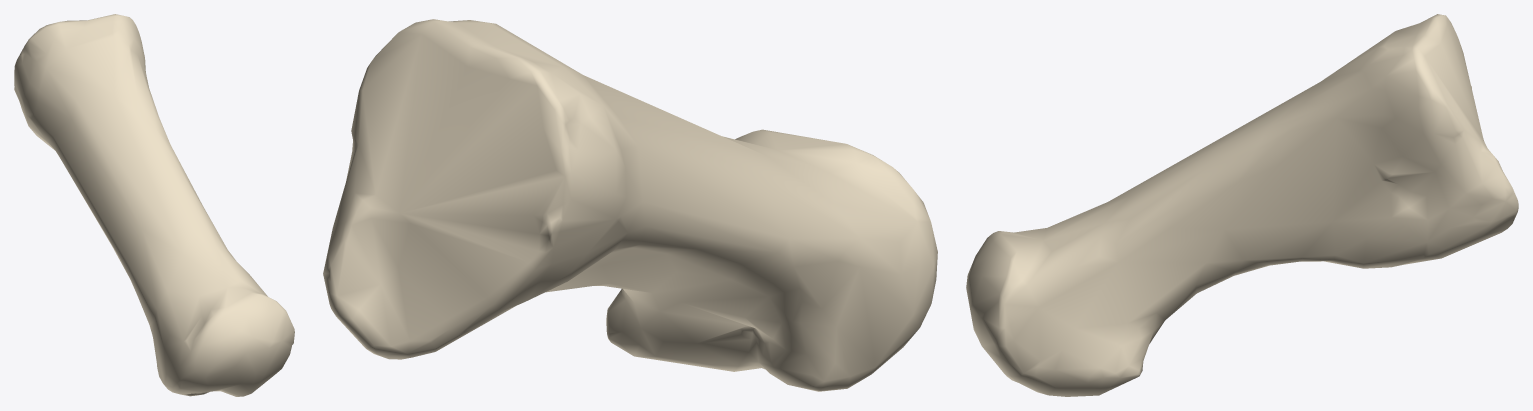
File: first-metatarsal-bone-l.glb
The picture shows the model from 3 angles, left to right: view 1: azimuth 30°, elevation 25°; view 2: azimuth 150°, elevation 25°; view 3: azimuth 270°, elevation 25°; orthographic projection. The views are drawn at different scales.
Parts seen in each view (by area): view 1: First metatarsal bone.l; view 2: First metatarsal bone.l; view 3: First metatarsal bone.l.
Part boxes in pixels (left/top/right/bottom): First metatarsal bone.l: left=14, top=14, right=294, bottom=396; First metatarsal bone.l: left=323, top=19, right=937, bottom=391; First metatarsal bone.l: left=966, top=14, right=1518, bottom=396.
Bounding box in the file's own units: 0.0218 × 0.0449 × 0.0636.
